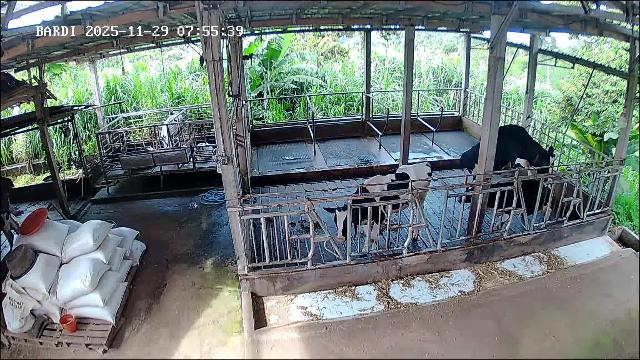mounting: (457, 125, 556, 211)
